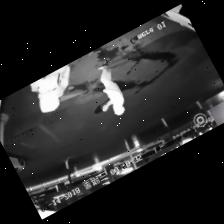person: (30, 64, 70, 111), (98, 64, 124, 114)
